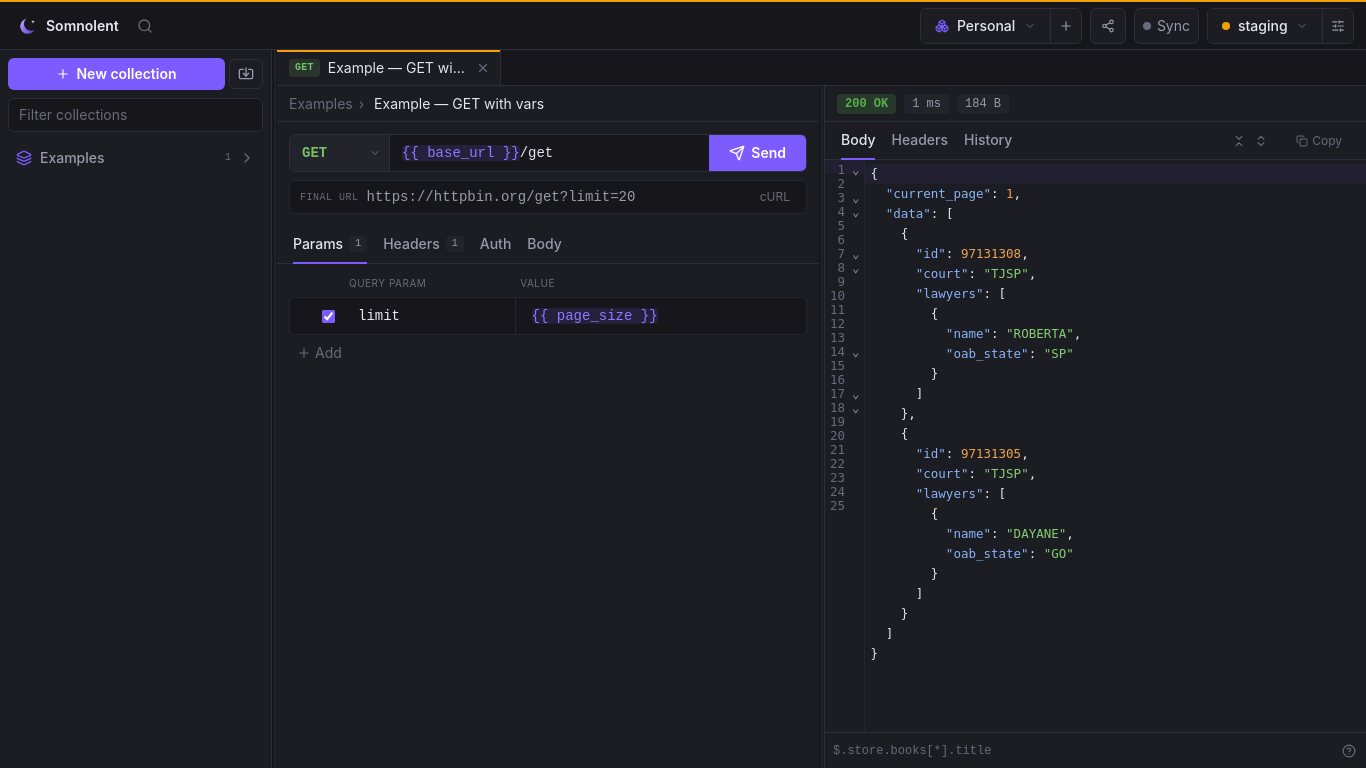
Test: folding the response JSON › collapsing all hides the items; expanding gives them back
Click the button named "Collapse all" at (1239, 140), box [1228,130,1250,152]
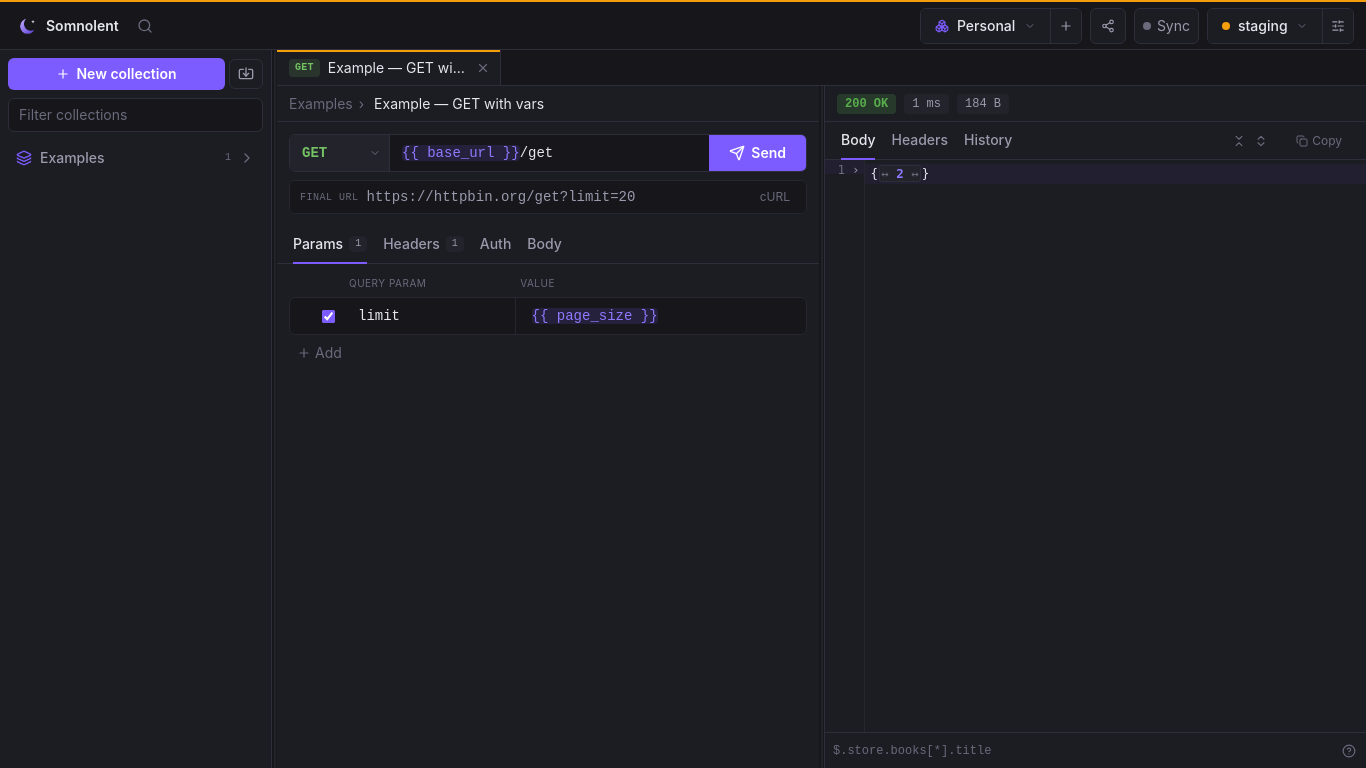
Click the button named "Expand all" at (1261, 140), box [1250,130,1272,152]
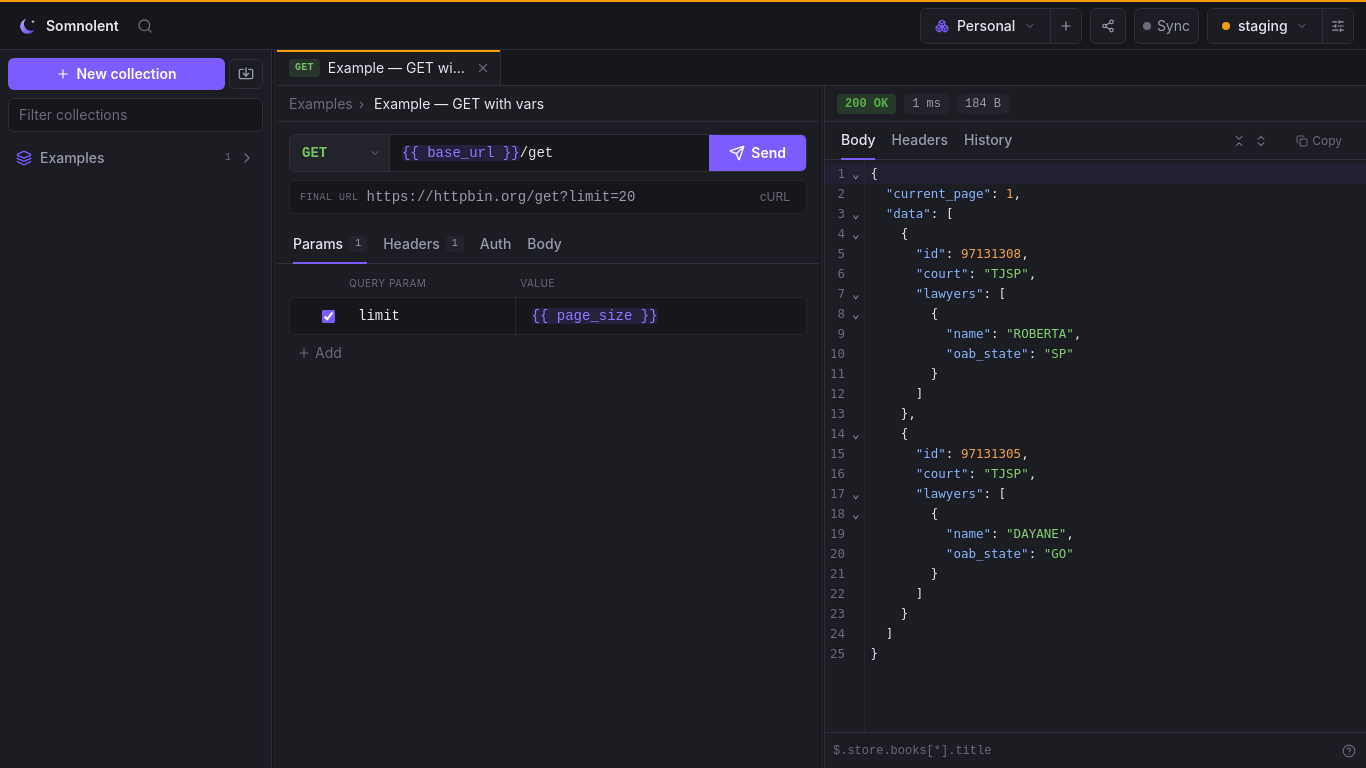
Now the field with class "cm-content" shows "ROBERTA", box [865,160,1365,732]
